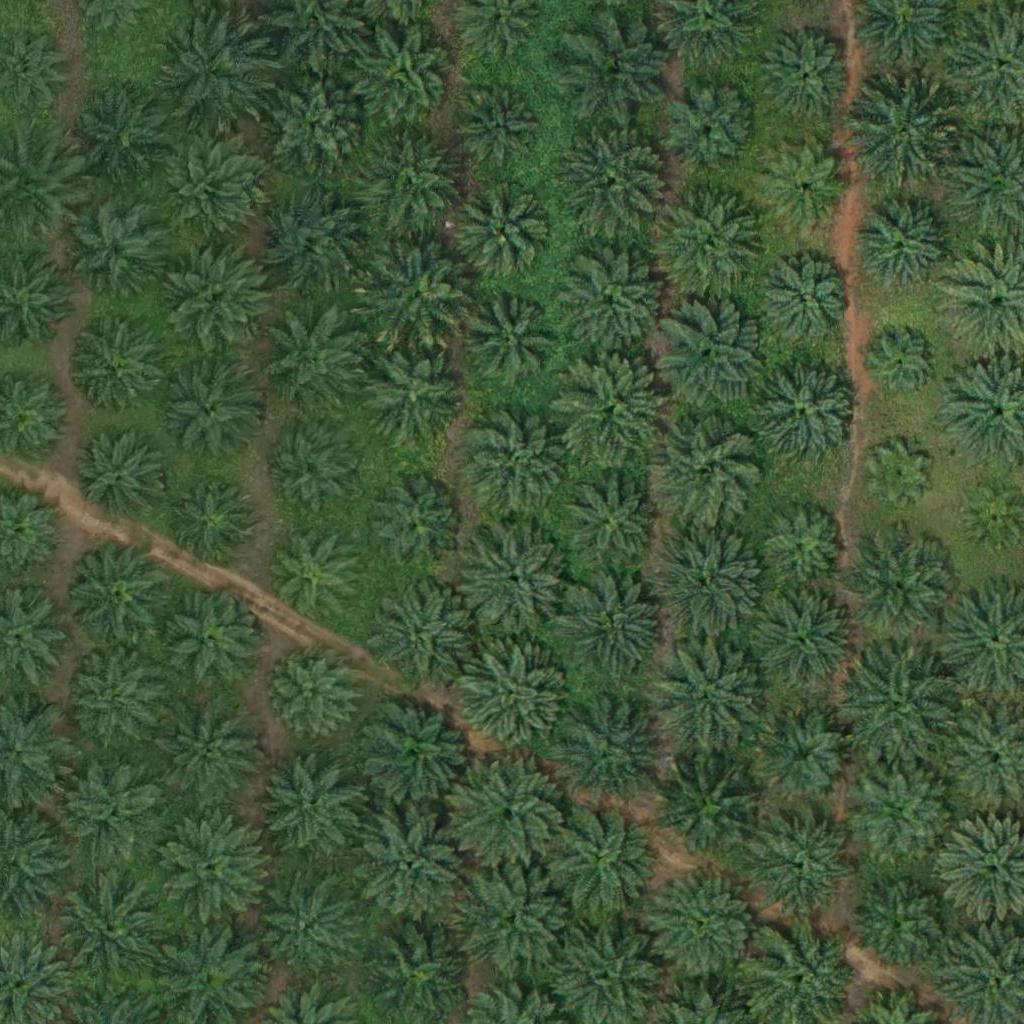Kelapa_Sawit: (67, 84, 180, 198), (63, 192, 176, 306), (843, 77, 956, 191), (656, 751, 769, 865), (364, 576, 477, 690), (159, 243, 272, 357), (541, 803, 654, 917), (648, 869, 761, 983), (560, 129, 673, 242), (555, 248, 668, 361), (849, 186, 962, 299), (648, 414, 761, 527), (652, 527, 765, 640), (653, 642, 766, 755), (553, 352, 666, 465), (555, 472, 668, 585), (356, 697, 469, 810), (154, 583, 267, 696), (355, 812, 468, 925), (551, 691, 663, 805), (461, 522, 573, 636), (457, 643, 569, 757), (257, 307, 369, 421), (155, 19, 267, 132), (257, 184, 369, 297), (361, 136, 473, 249), (560, 8, 672, 121), (650, 186, 762, 299), (844, 531, 956, 644), (843, 653, 955, 766), (752, 358, 864, 471), (746, 589, 858, 702), (652, 299, 764, 412), (556, 574, 668, 687), (462, 406, 574, 519), (358, 240, 470, 353), (157, 696, 269, 809), (61, 540, 173, 653), (55, 872, 167, 985), (155, 811, 267, 924), (452, 758, 564, 871), (457, 862, 569, 975), (267, 79, 367, 180), (354, 21, 454, 122), (453, 181, 553, 282), (659, 75, 759, 176), (754, 706, 854, 807), (459, 290, 559, 391), (63, 648, 163, 749), (64, 759, 164, 860), (263, 753, 363, 854), (252, 878, 352, 979), (854, 761, 954, 862), (855, 871, 955, 972), (163, 140, 263, 240), (756, 27, 856, 127), (362, 349, 462, 449), (363, 479, 463, 579), (262, 522, 362, 622), (159, 364, 259, 464), (66, 317, 166, 417), (757, 811, 857, 911), (761, 259, 849, 347), (758, 499, 846, 587), (74, 437, 162, 525), (456, 84, 543, 173), (761, 143, 848, 231), (264, 430, 351, 518), (271, 649, 358, 737), (162, 477, 249, 565), (872, 332, 935, 395), (867, 443, 930, 506)
